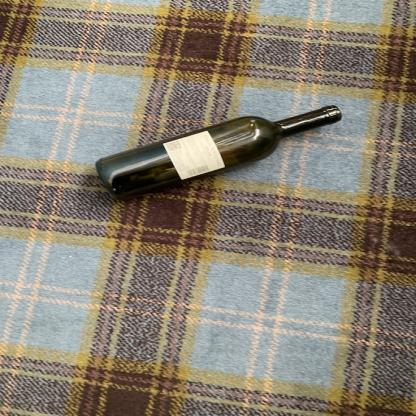trash: (88, 104, 348, 202)
